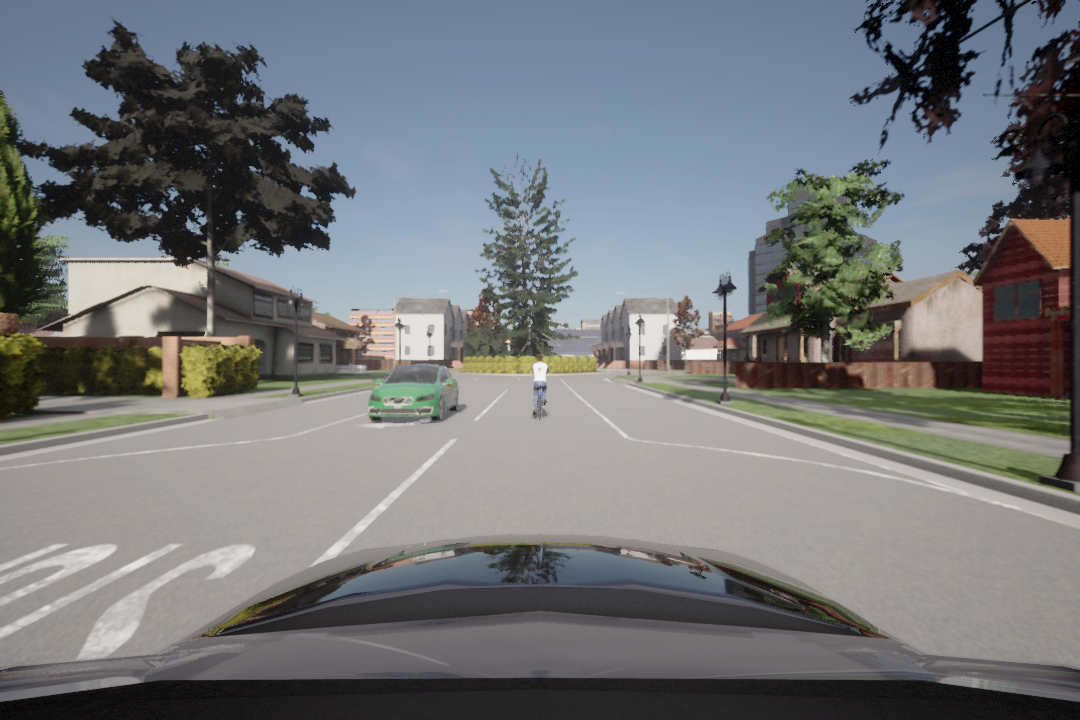RoadSign_left: (355, 414, 443, 428)
